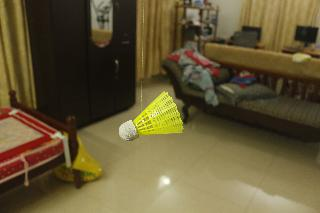shuttlecock: (118, 91, 184, 140)
